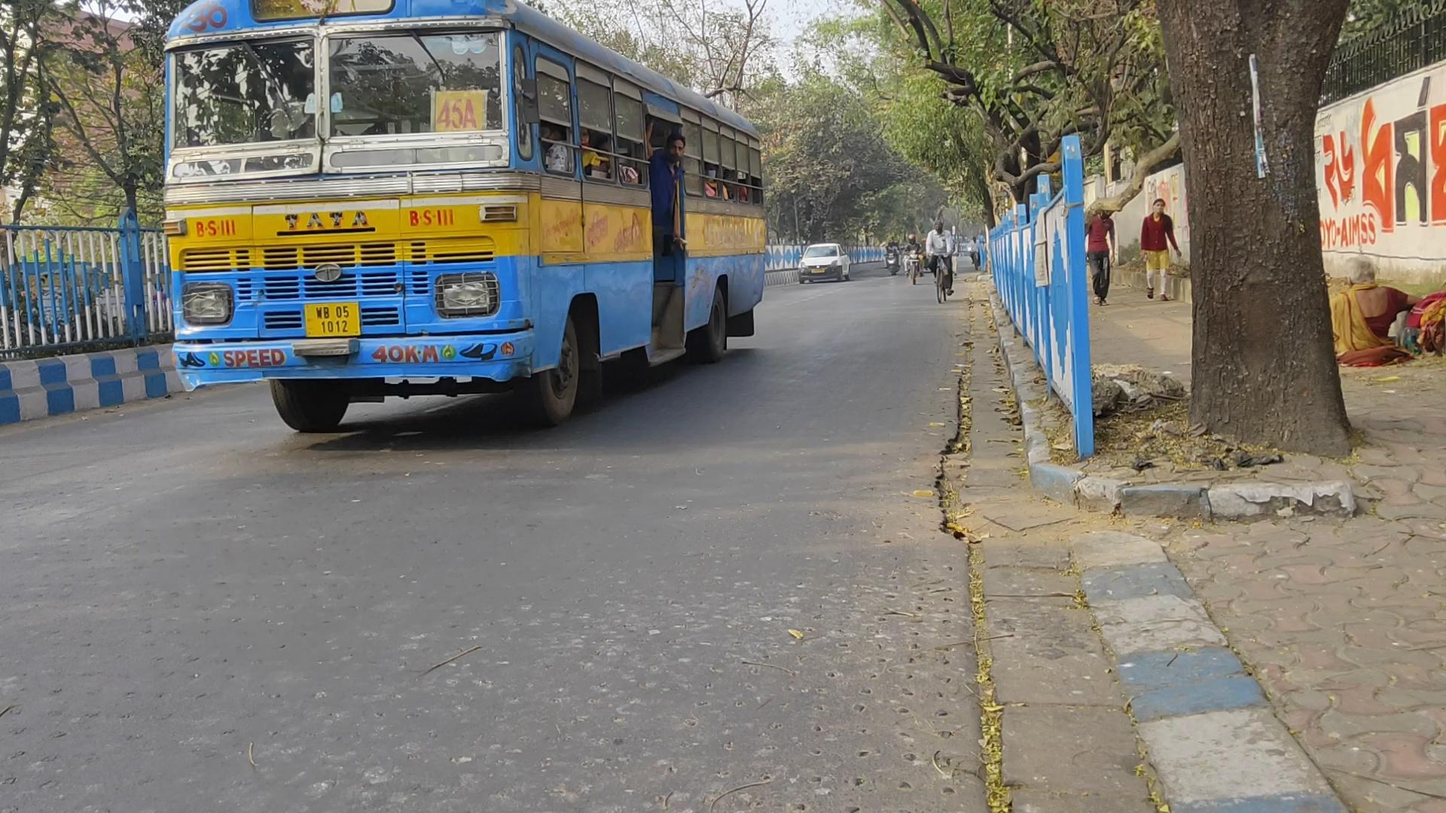Bus: (163, 1, 765, 435)
bike: (926, 218, 955, 303), (901, 234, 925, 285), (883, 239, 905, 276)
car: (797, 242, 850, 283)
